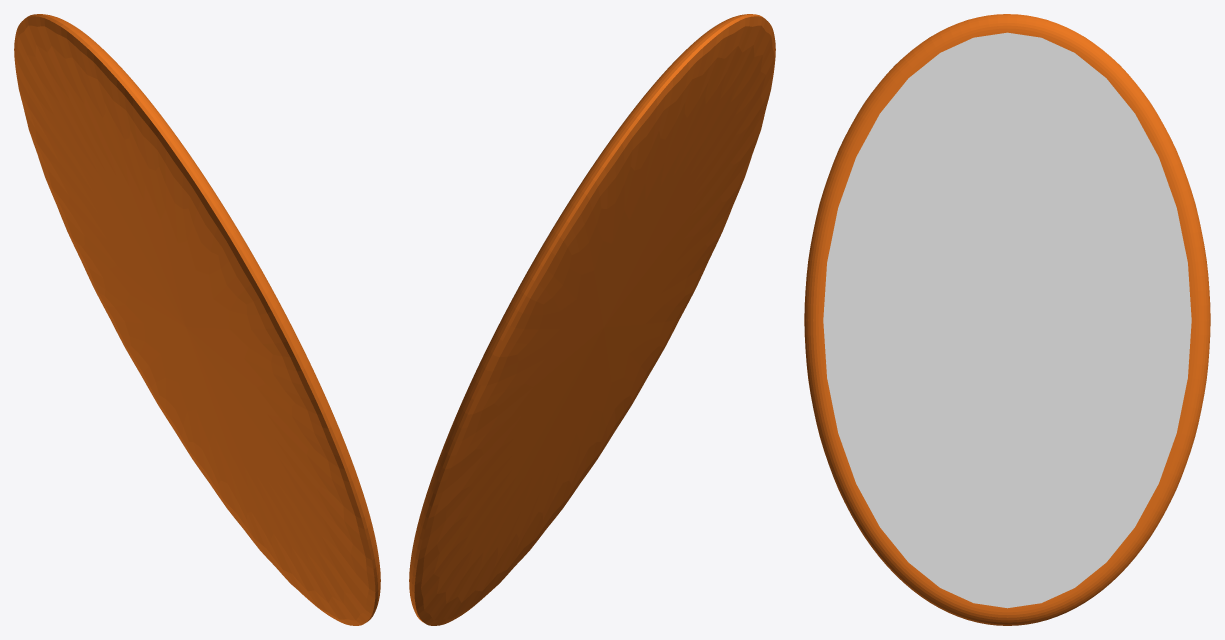
Rendered from cermin.fbx.
3 renders of one model, left to right at view 1: azimuth 30°, elevation 25°; view 2: azimuth 150°, elevation 25°; view 3: azimuth 270°, elevation 25°, orthographic. The views are drawn at different scales.
Visible parts, largest first — view 1: Circle; view 2: Circle; view 3: Circle.001, Circle.
Part boxes in pixels (x1=…): Circle: x1=14, y1=14, x2=380, y2=625; Circle: x1=409, y1=14, x2=775, y2=625; Circle.001: x1=823, y1=32, x2=1191, y2=608; Circle: x1=804, y1=14, x2=1210, y2=625.
Bounding box in the file's own units: 118 × 275 × 197.
